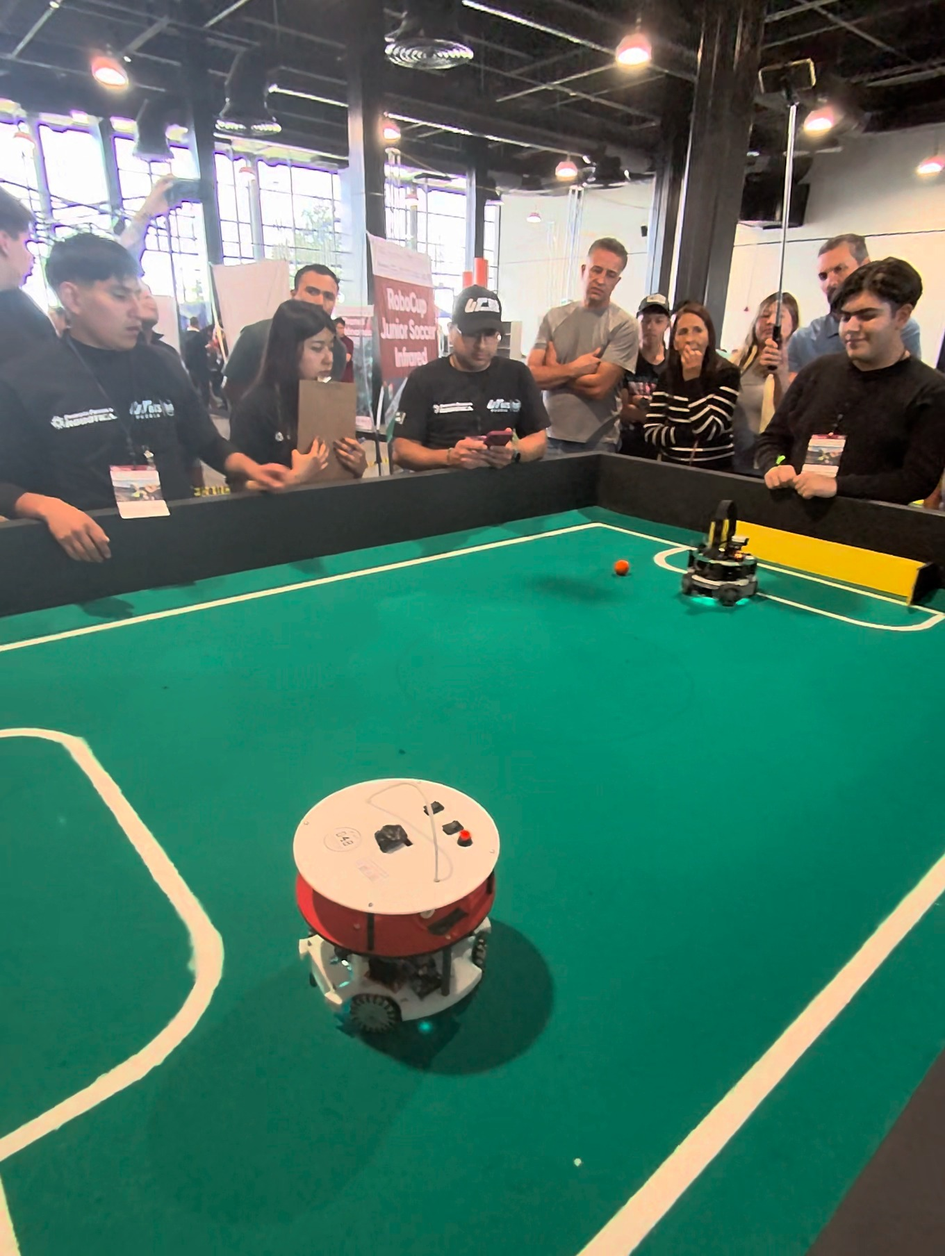Robot: (293, 752, 506, 1068), (686, 494, 765, 620)
pelota: (614, 557, 630, 574)
